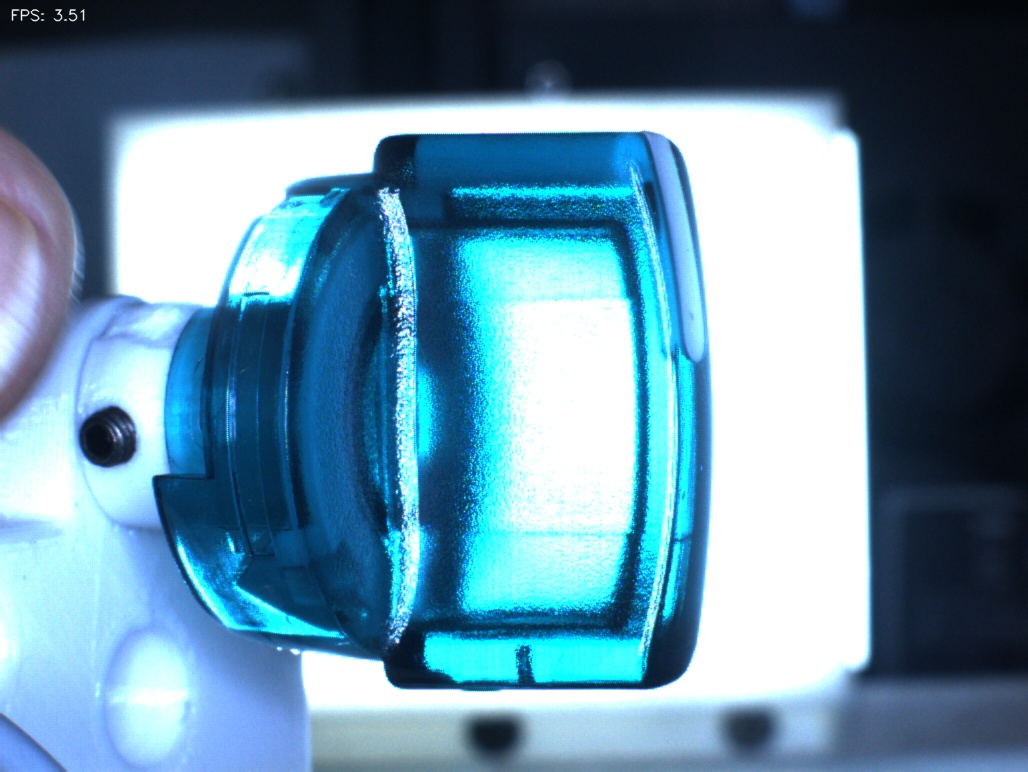Bulle: (475, 633, 577, 715)
